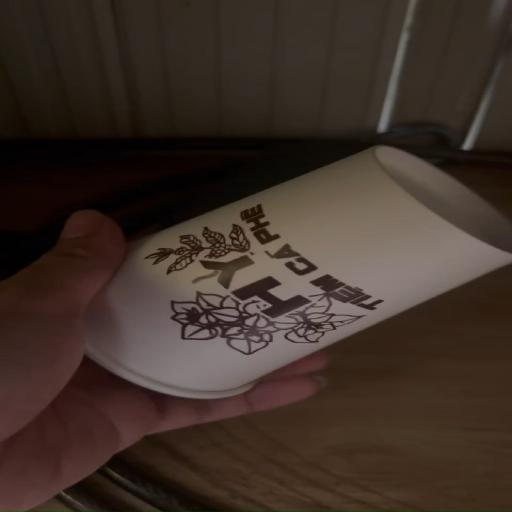Ly_giay: (85, 146, 511, 398), (266, 244, 299, 258)
